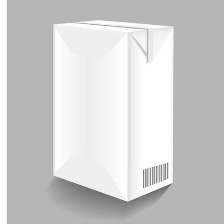carton: (45, 14, 179, 202)
